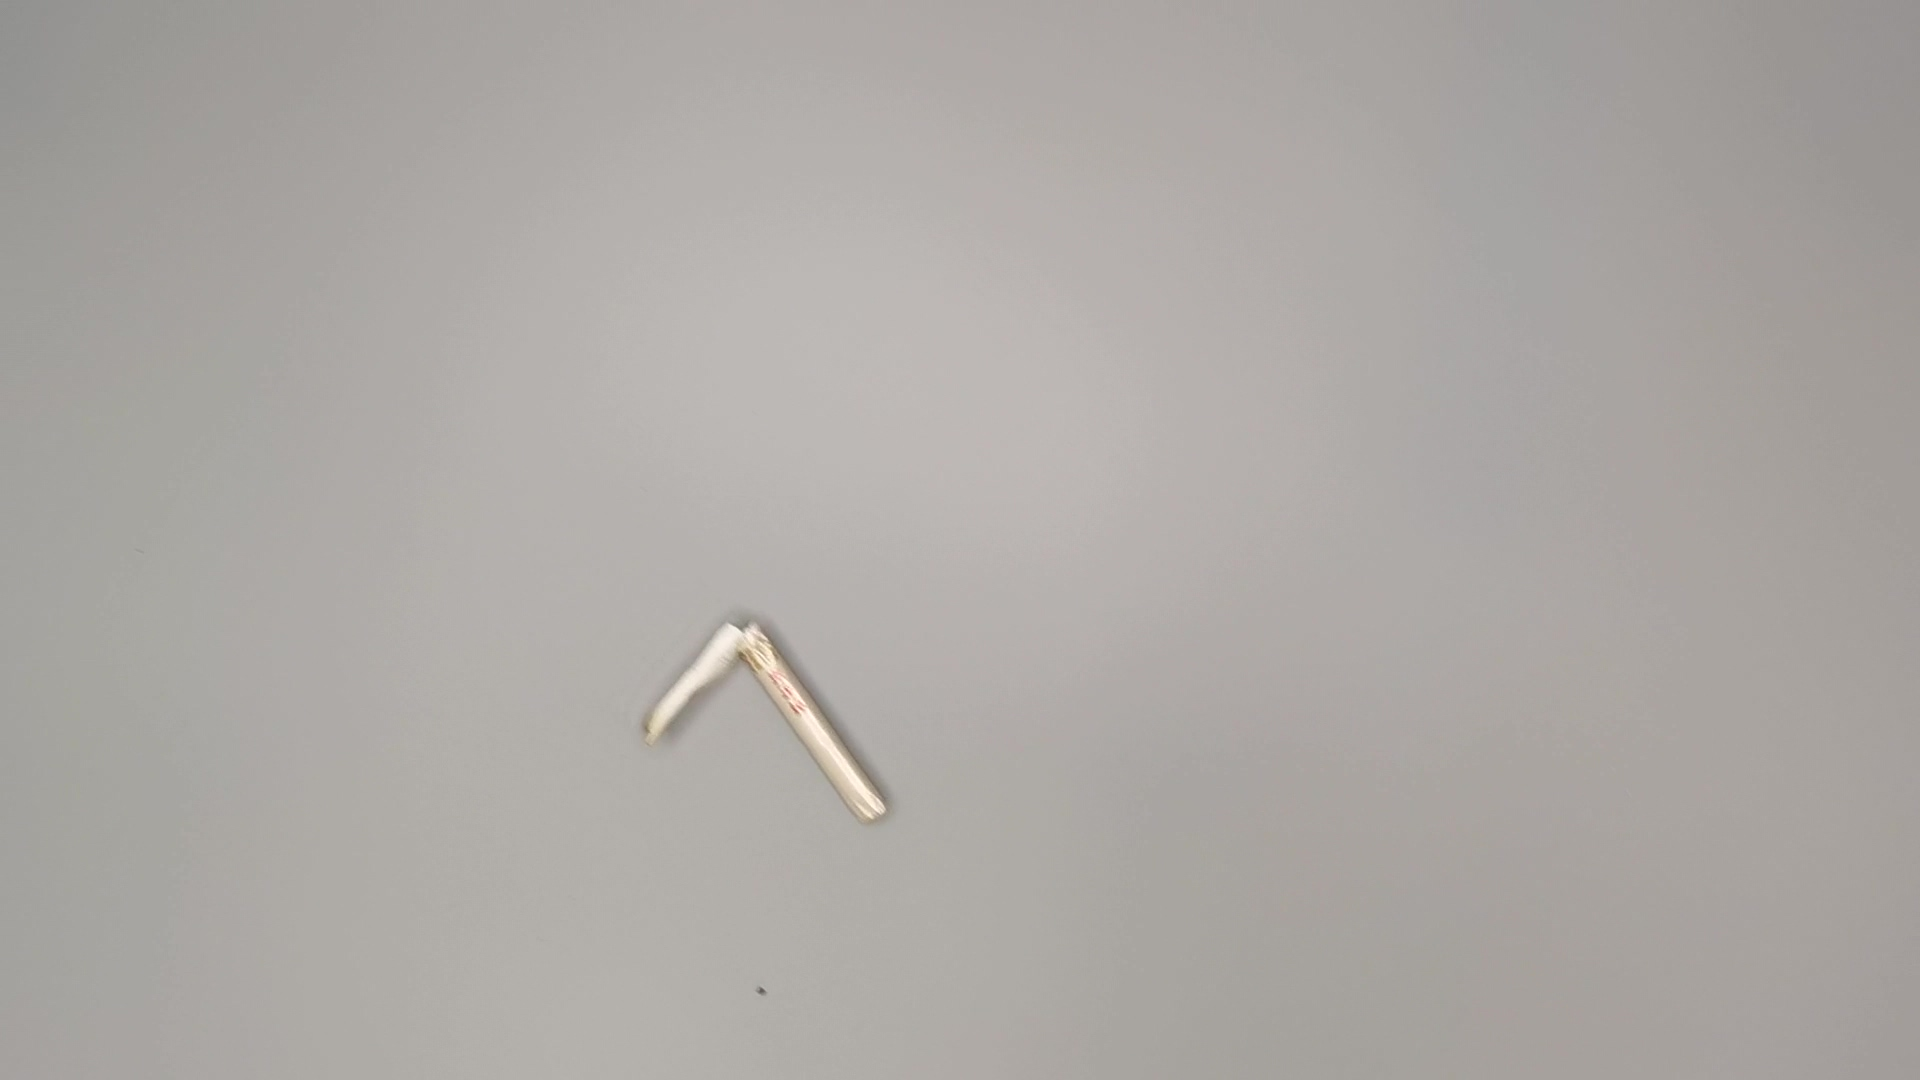cigarette: (634, 612, 897, 841)
